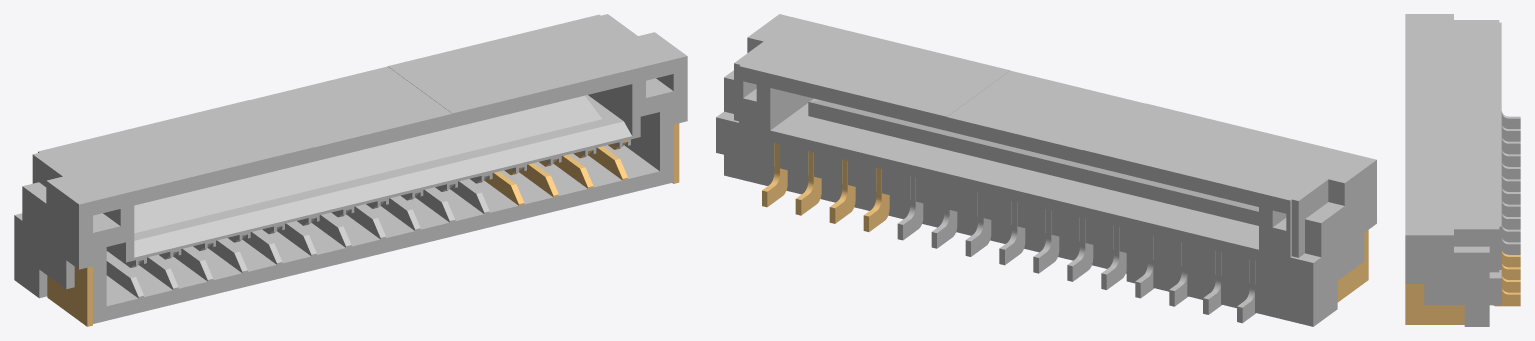
The model's file is SM15B-GHS-TB.obj.
The picture shows the model from 3 angles, left to right: view 1: azimuth 30°, elevation 25°; view 2: azimuth 150°, elevation 25°; view 3: azimuth 270°, elevation 25°; orthographic projection. The views are drawn at different scales.
Visible parts, largest first — view 1: SM15B-GHS-TB; view 2: SM15B-GHS-TB; view 3: SM15B-GHS-TB.
Part boxes in pixels (x1,y1,x2,y2): SM15B-GHS-TB: [14, 14, 687, 326]; SM15B-GHS-TB: [716, 14, 1376, 326]; SM15B-GHS-TB: [1405, 14, 1520, 326].
Bounding box in the file's own units: 0.02 × 0.0039 × 0.0044.
